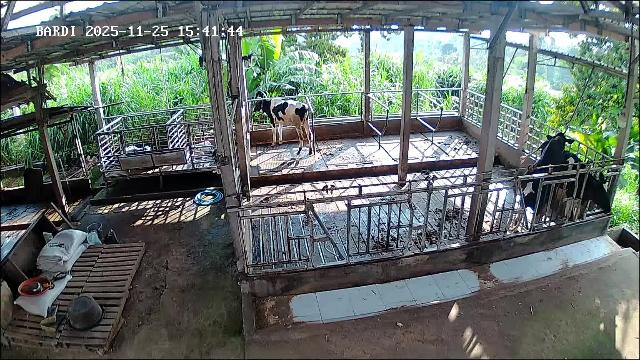mounting: (515, 131, 574, 225)
